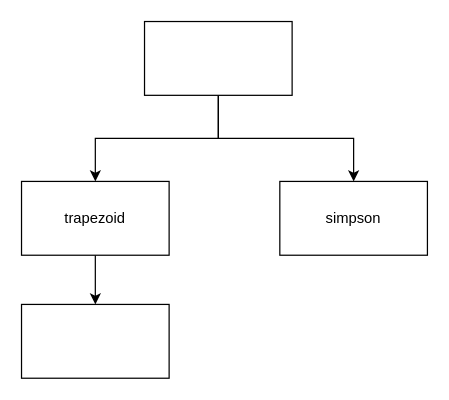
Some shapes in this 449 by 400 pixel diagram are drawn without their labels. The box of each missing label's shape, as (x1, y1, x2, y2) in pixels:
main: (143, 20, 292, 95)
sum_with_step: (20, 303, 169, 378)
